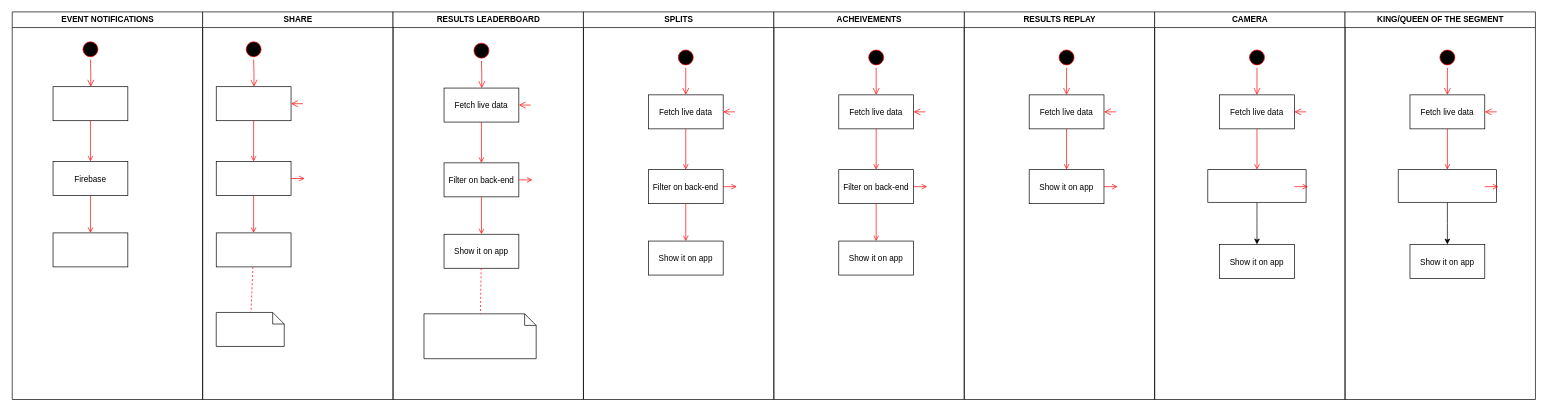
Some shapes in this 1547 by 411 pixel diagram are drawn without their labels. The centre of each missing label's shape, as x and y in pixels:
"Analyze" belongs at point (1447, 185).
"Fetch file from storage" belongs at point (1256, 185).
"Monitoring on back-end" belongs at point (253, 249).
"Open share panel" belongs at point (253, 103).
"Send from admin" belongs at point (90, 103).
"Send invite via short url" belongs at point (253, 178).
"Some times we will directly show data from database" belongs at point (479, 336).
"User applications" belongs at point (90, 249).
